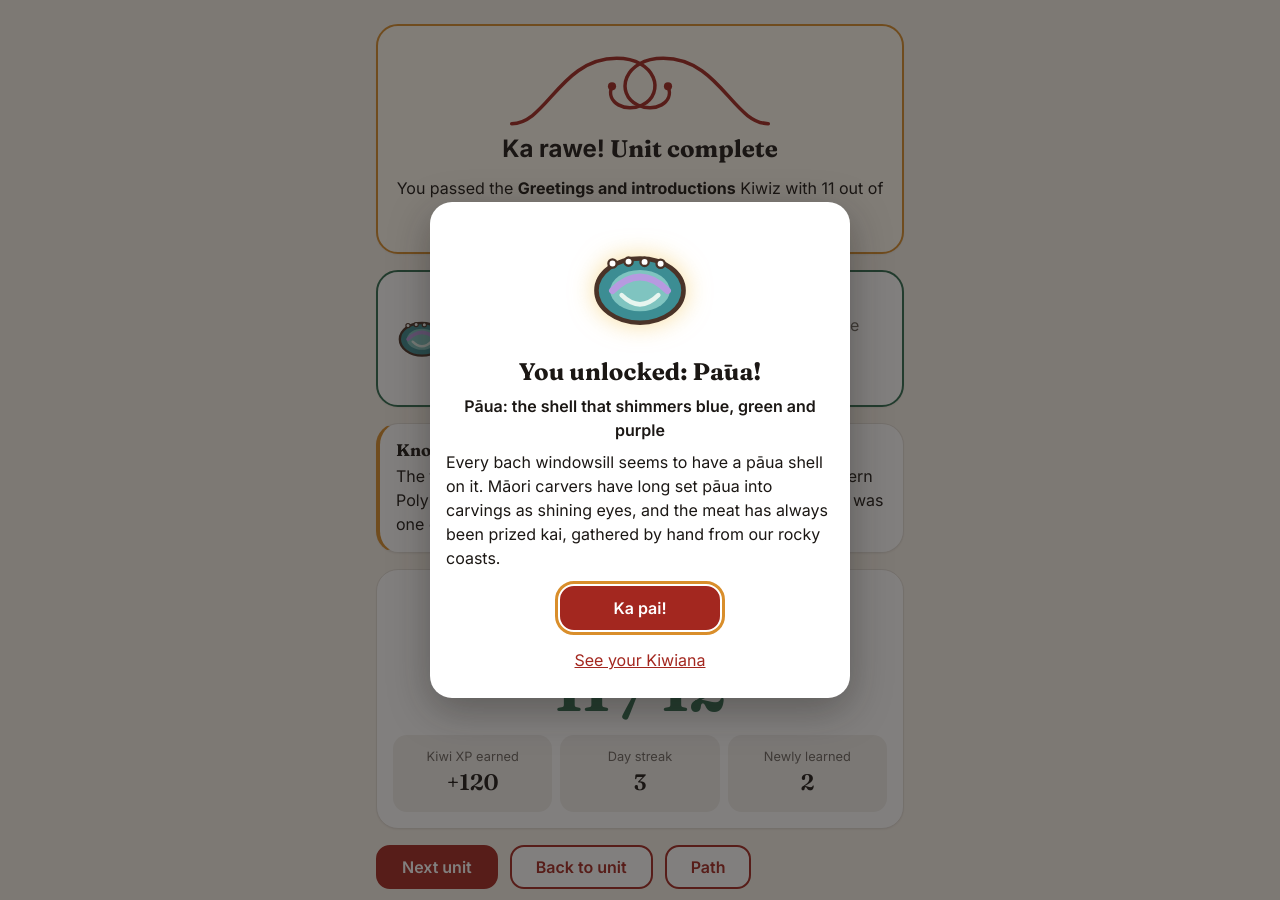
Results: unlock dialog › opens the unlock dialog with the name and story when a Kiwiz pass unlocks a treasure
This screenshot has width=1280, height=900.
Expected: the dialog shows "You unlocked: Pāua!", left=430, top=202, right=850, bottom=698
Expected: the dialog shows "set pāua into carvings", left=446, top=452, right=828, bottom=568
Click the button "Ka pai!" at (640, 608), box left=560, top=586, right=720, bottom=630
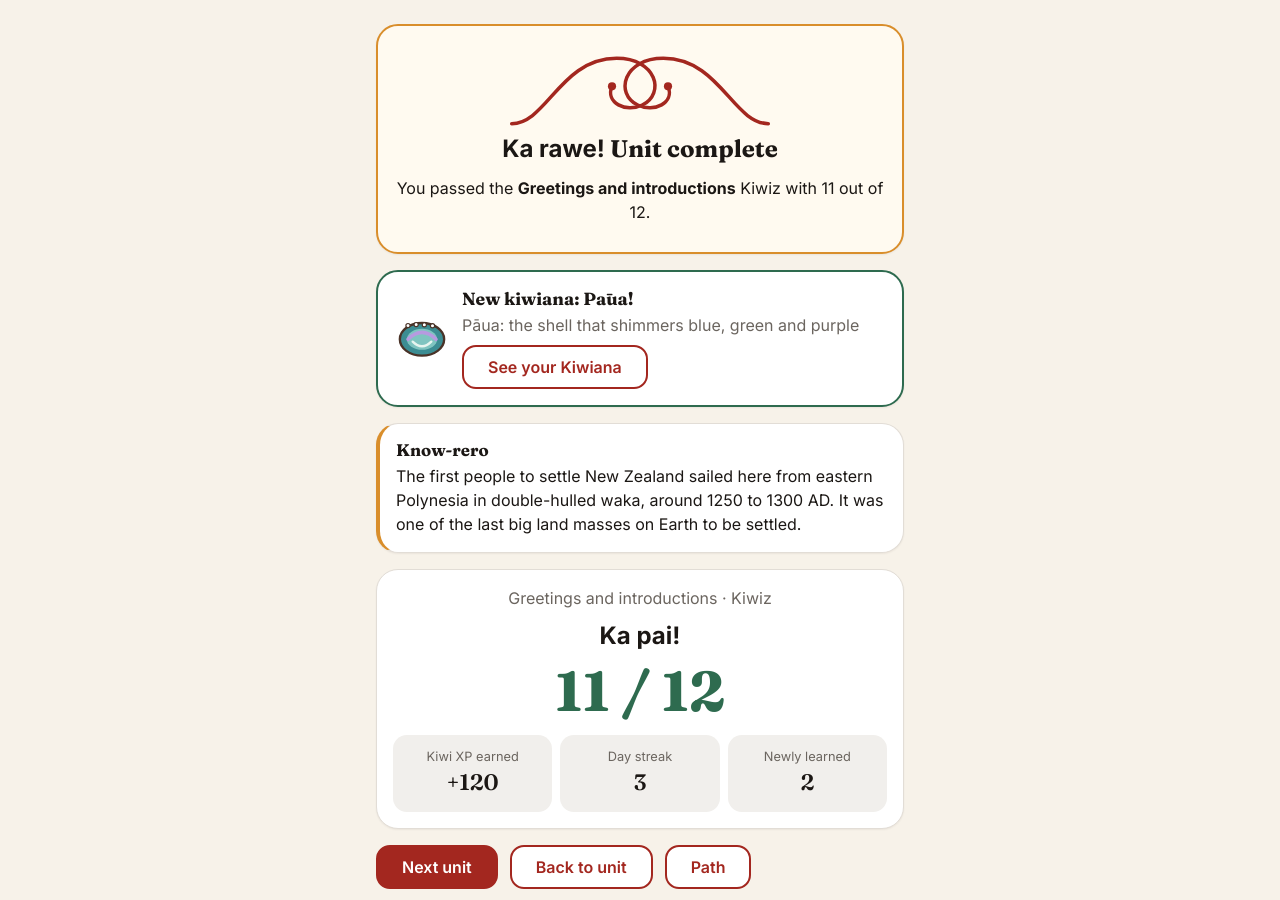
Expected: the text "New kiwiana: Pāua!" is shown, left=462, top=288, right=634, bottom=309
Now the dialog is gone
